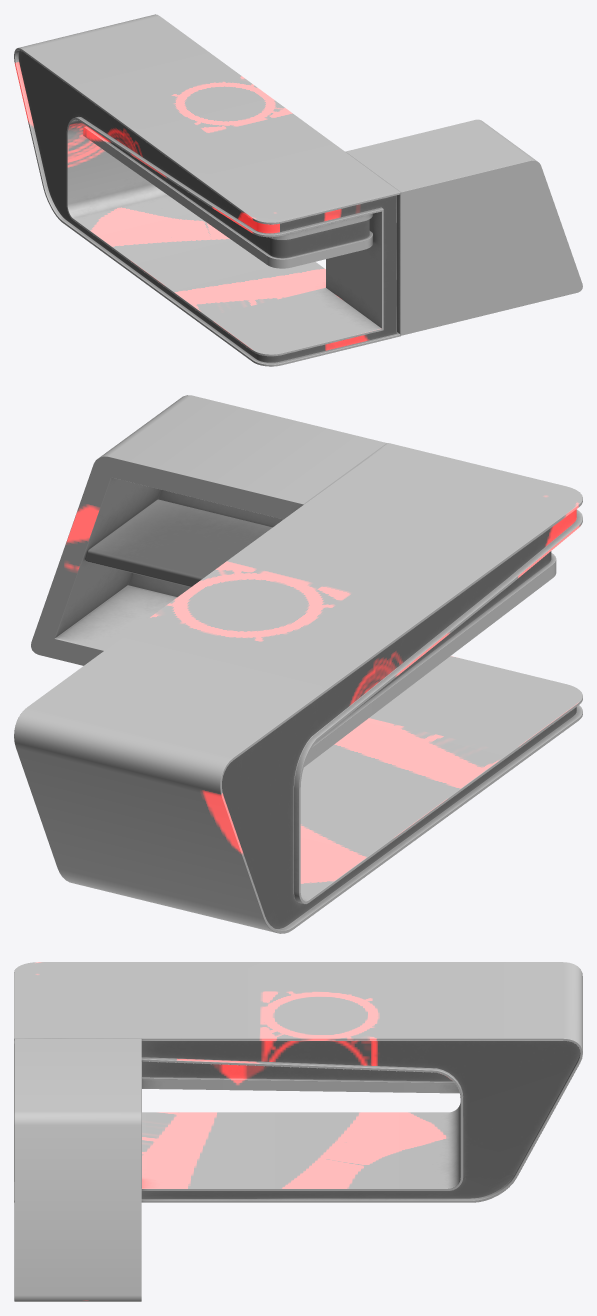
The model's file is SM_OfficeWhiteGrayDesk.fbx.
3 views of the same model, one above another, from view 1: azimuth 30°, elevation 25°; view 2: azimuth 150°, elevation 25°; view 3: azimuth 270°, elevation 25° (orthographic). The views are drawn at different scales.
Parts seen in each view (by area): view 1: SM_OfficeWhiteGrayDesk_LOD0; view 2: SM_OfficeWhiteGrayDesk_LOD0; view 3: SM_OfficeWhiteGrayDesk_LOD0.
Boxes of the visible parts, x1,y1,x2,y2 form: SM_OfficeWhiteGrayDesk_LOD0: [14, 14, 582, 366]; SM_OfficeWhiteGrayDesk_LOD0: [14, 395, 582, 933]; SM_OfficeWhiteGrayDesk_LOD0: [14, 962, 582, 1301].
Size of the model in its own units: 181 by 244 by 77.72.
1 material, 1 textured.
